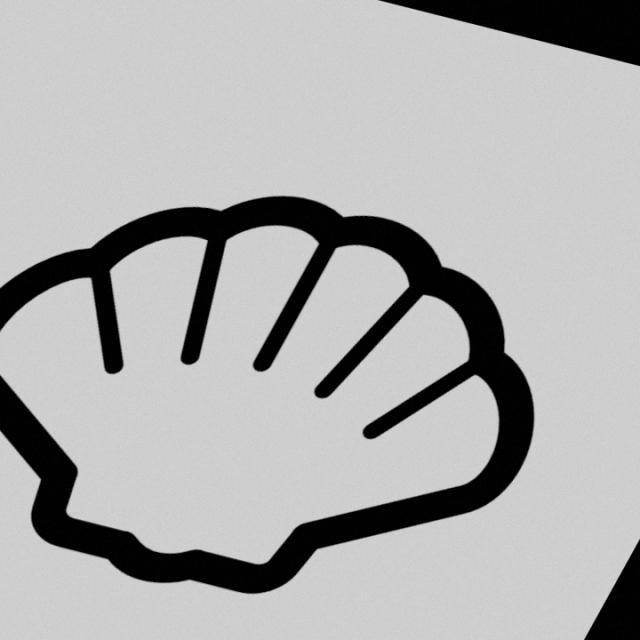shell: (1, 196, 549, 613)
